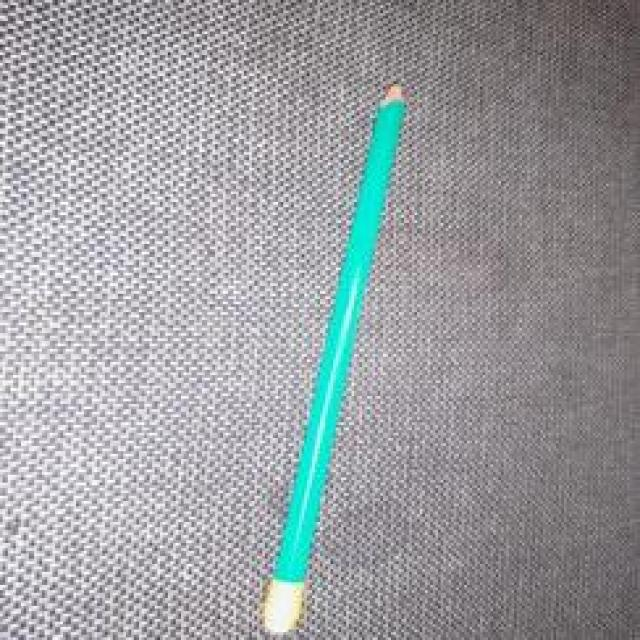pencil: (257, 81, 407, 635)
